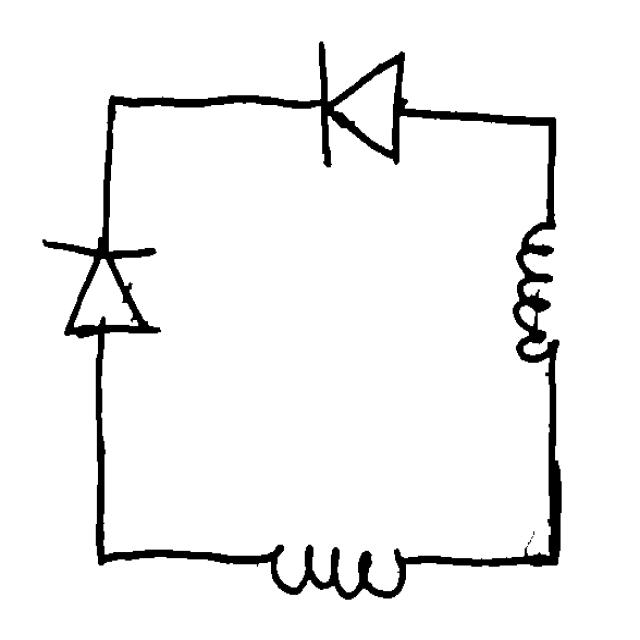diode: (25, 214, 174, 361), (291, 27, 416, 186)
inductor: (246, 516, 420, 608), (506, 191, 577, 381)
